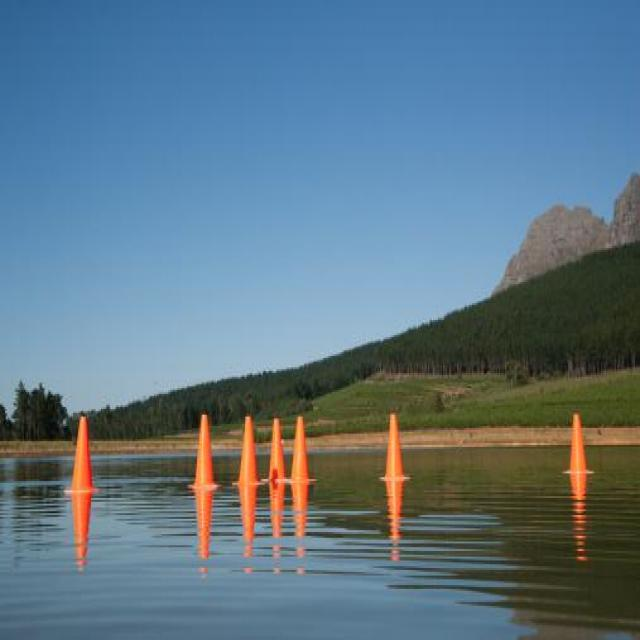Cone: (64, 417, 98, 492), (188, 412, 217, 487), (381, 413, 410, 481), (236, 414, 263, 484), (563, 411, 592, 475), (290, 414, 312, 484), (266, 417, 286, 481)
